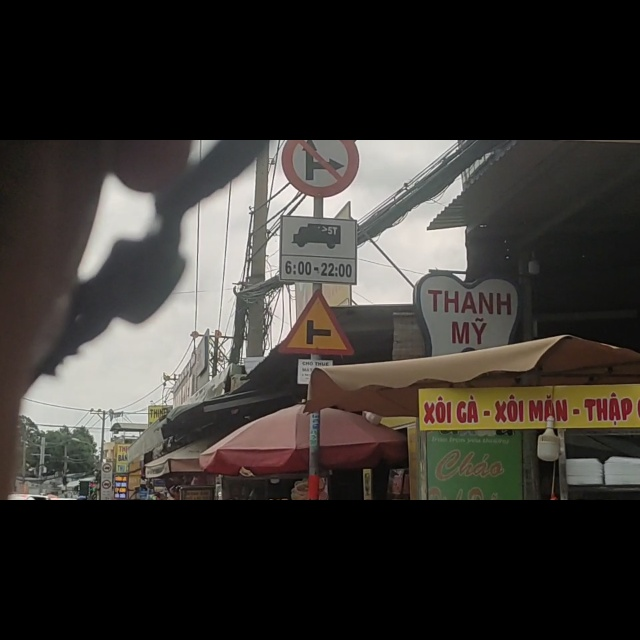bien_cam: (281, 137, 357, 254), (276, 275, 350, 378), (285, 1, 359, 101)
